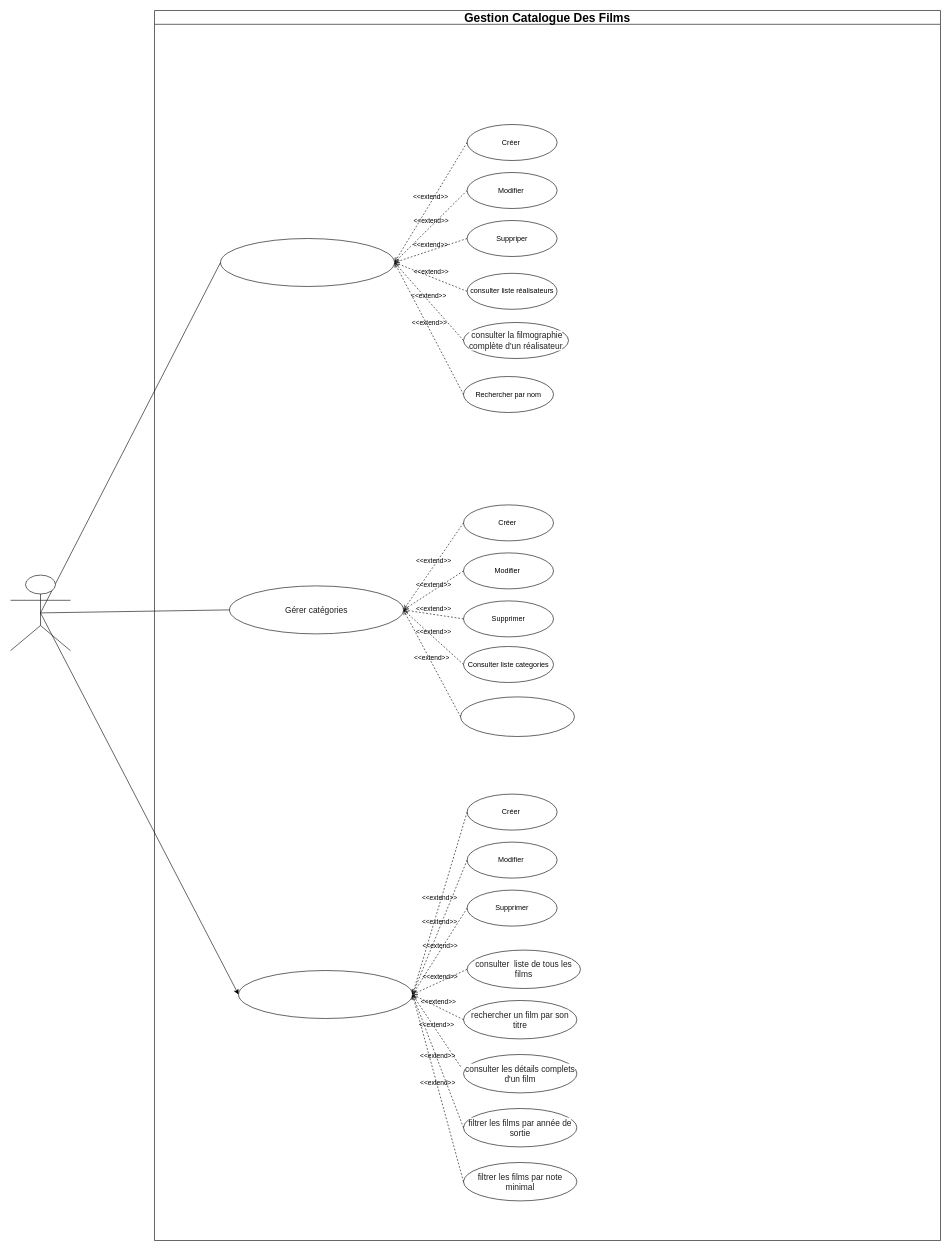
Some shapes in this 951 by 1251 pixel diagram are drawn without their labels. The centre of each missing label's shape, as x and y in pixels:
Admin: the point at 40,612
consulter tous les films d'une catégorie donnée: the point at 517,716
Gérer films: the point at 325,994
Gérer Réalisateurs: the point at 307,262
